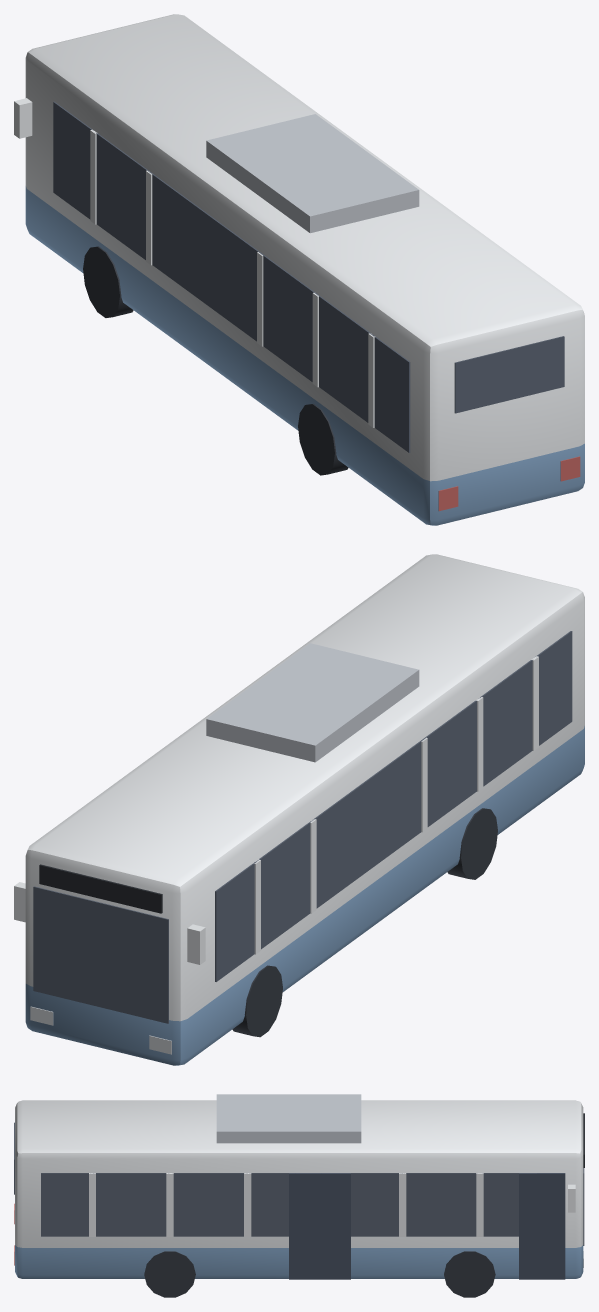
Rendered from bus.glb.
The picture shows the model from 3 angles, top to bottom: view 1: azimuth 30°, elevation 25°; view 2: azimuth 150°, elevation 25°; view 3: azimuth 270°, elevation 25°; orthographic projection. The views are drawn at different scales.
Parts seen in each view (by area): view 1: Body; view 2: Body; view 3: Body.
Part boxes in pixels (x1,y1,x2,y2): Body: (14,14,584,525); Body: (14,554,584,1065); Body: (14,1094,584,1297).
Size of the model in its own units: 2.9 by 3.35 by 11.05.
